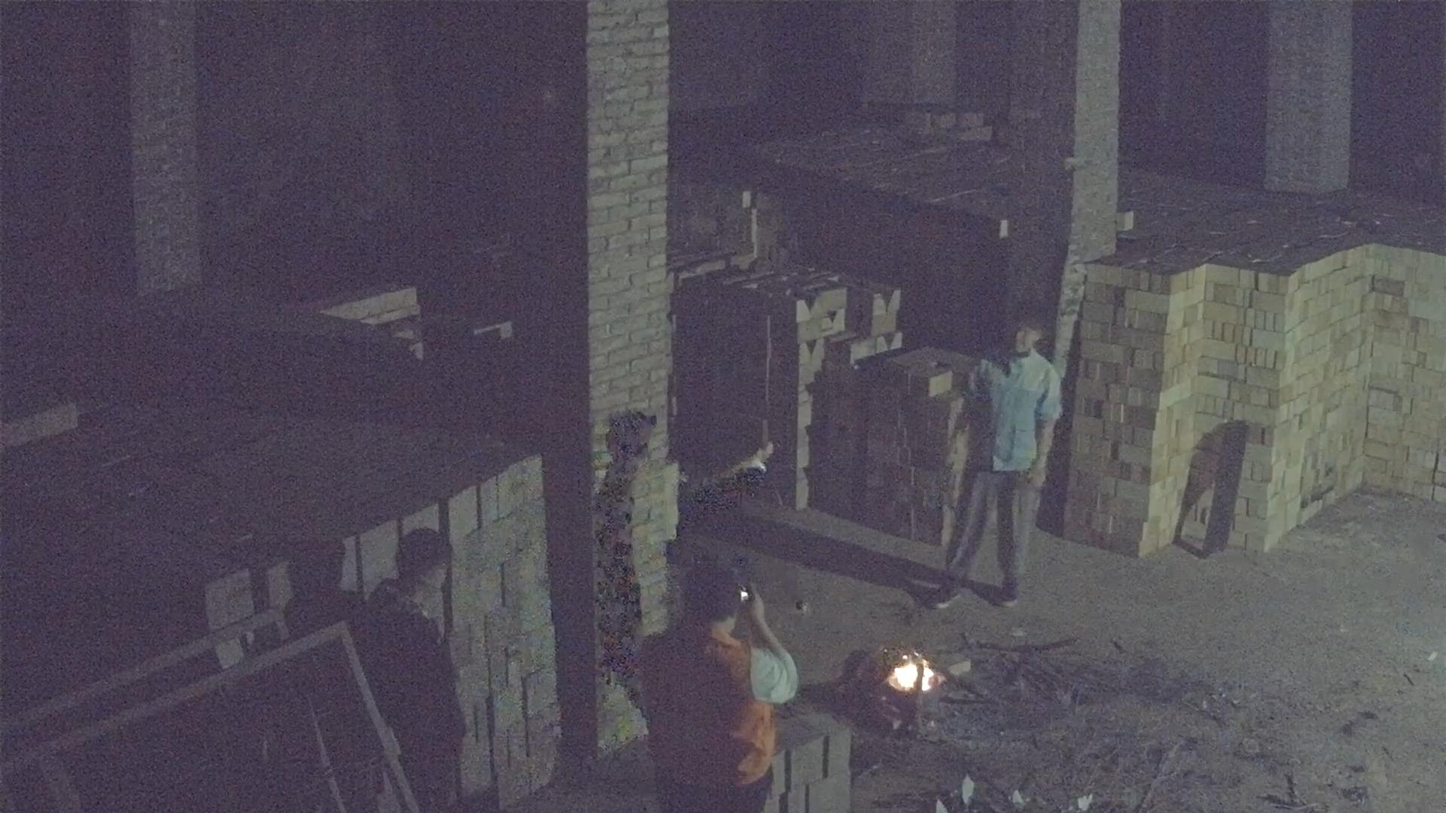fire: (885, 650, 942, 694)
